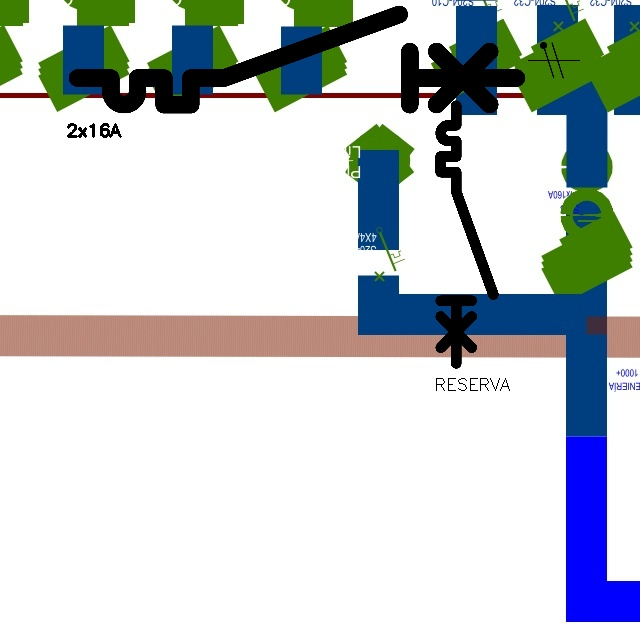interruptor_termomagnetico: (66, 3, 528, 116), (434, 99, 500, 370)
